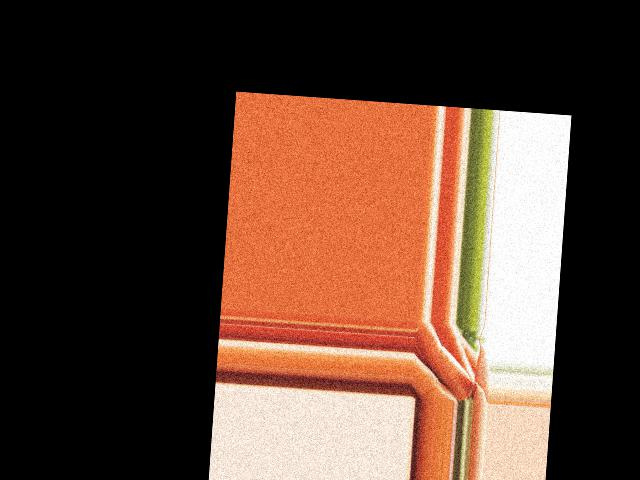carrot: (436, 330, 482, 385)
